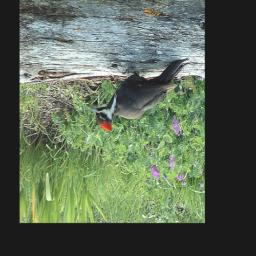Woodpecker: (87, 60, 189, 132)
